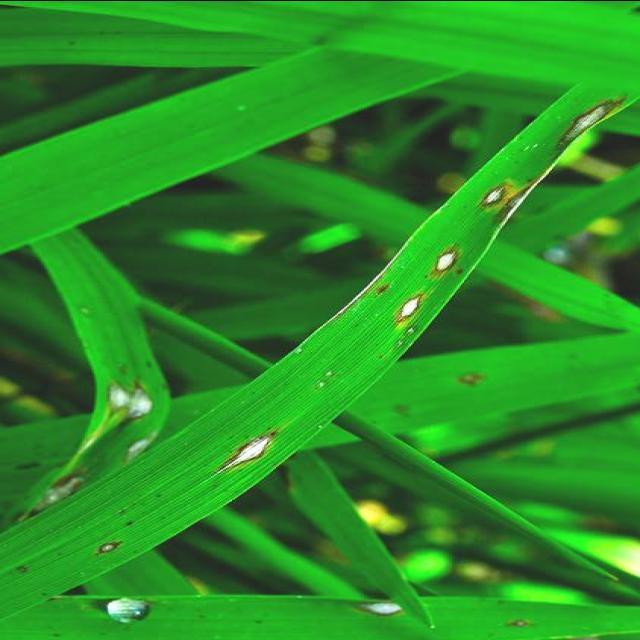Leaf_Blast: (562, 98, 628, 154), (229, 428, 288, 473), (392, 295, 444, 324), (484, 180, 530, 212), (432, 238, 470, 276), (360, 596, 416, 619)
